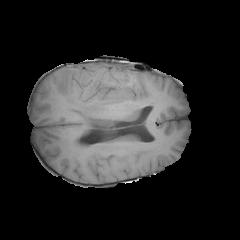glioma: (54, 72, 168, 131)
